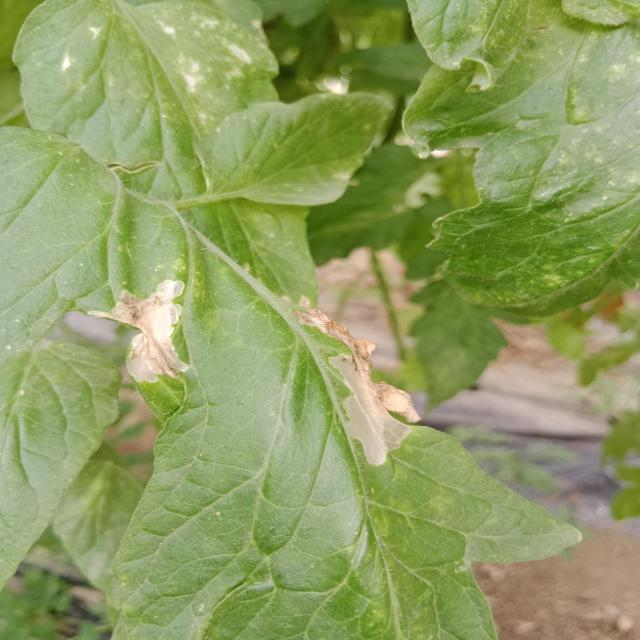Tuta absoluta: (280, 284, 432, 471), (85, 276, 206, 394)
